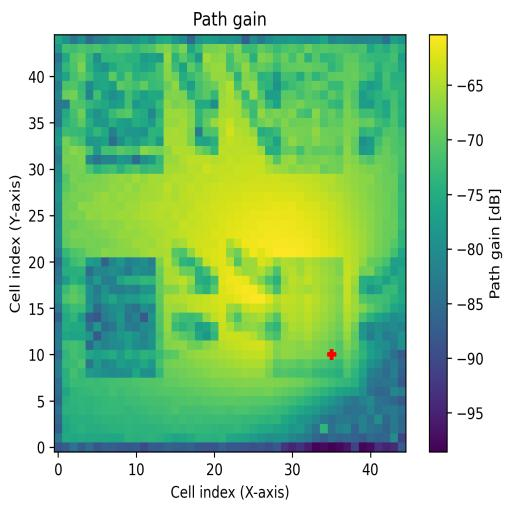Concrete: (265, 54, 344, 174)
Glass: (86, 53, 163, 174)
Metal: (273, 257, 344, 378)
Wood: (86, 257, 156, 377)
